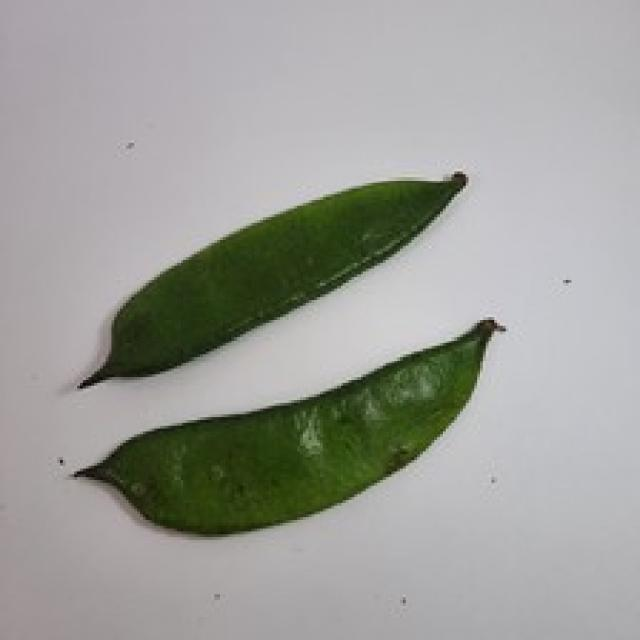Bean: (68, 314, 506, 537), (74, 168, 469, 388)
